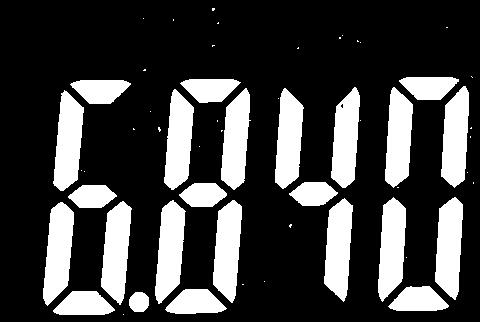0: (376, 72, 471, 315)
4: (270, 86, 364, 306)
6: (40, 77, 132, 317)
8: (154, 75, 252, 317)
dot: (127, 291, 152, 313)
